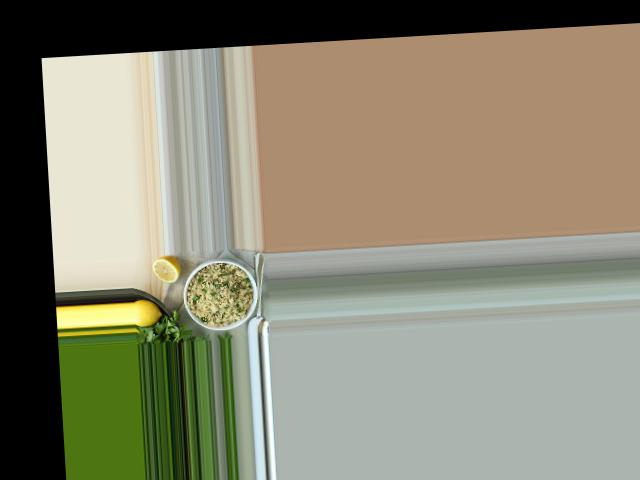lemon: (134, 301, 160, 325)
